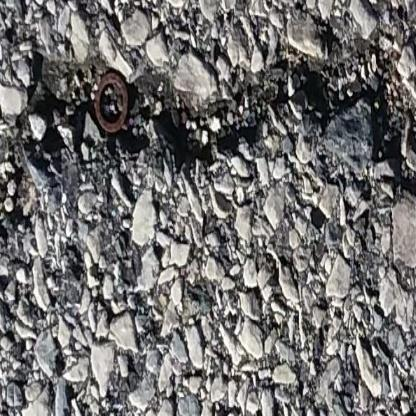Cracks: (0, 39, 416, 252), (408, 43, 416, 70)
